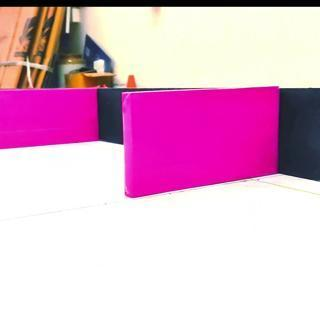xparking: (124, 92, 277, 190), (0, 88, 98, 146)
